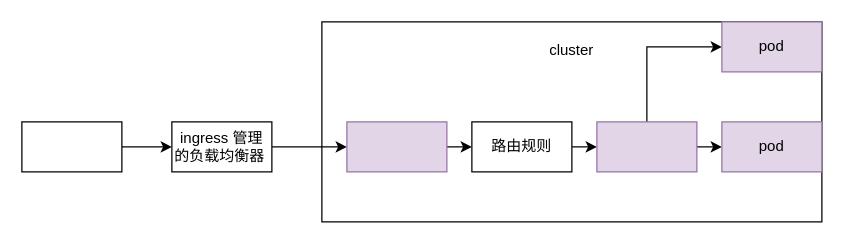
The diagram is 844 pixels wide and 244 high, and some of its shapes have lost their labels. The box of each missing label's shape, as (x1, y1, x2, y2) in pixels:
ingress: (346, 121, 447, 172)
service: (596, 121, 697, 172)
客户端: (21, 121, 122, 172)
